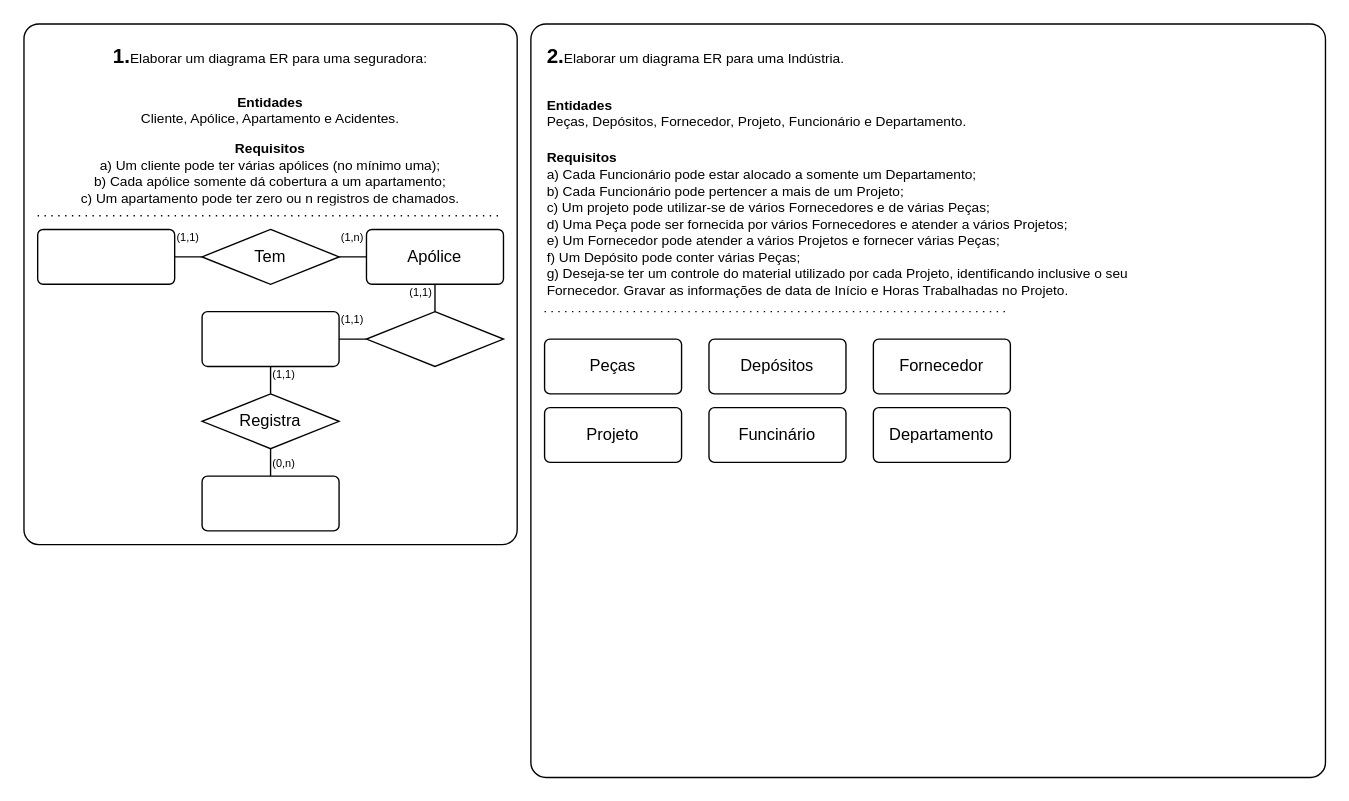
Some shapes in this 1349 by 801 pixel diagram are drawn without their labels. Each missing label, with the centre of its shape:
Acidentes: [270,503]
Apartamento: [270,338]
Assegura: [434,338]
Cliente: [105,256]
